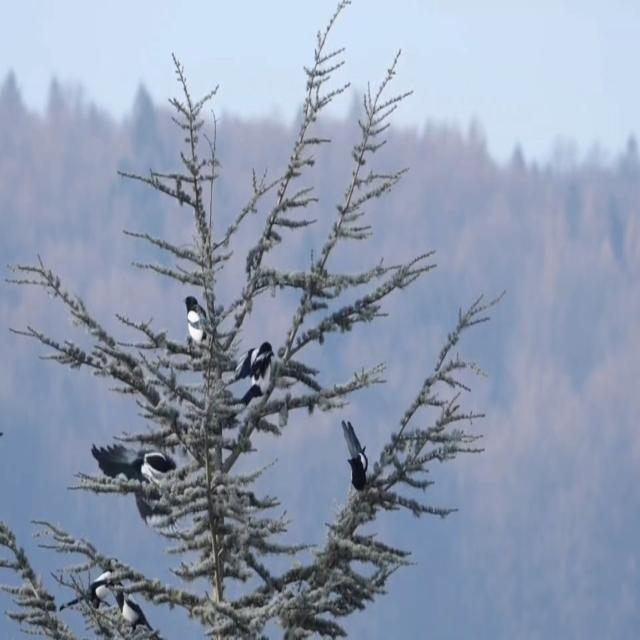bird: (90, 418, 176, 538), (336, 414, 383, 524), (67, 548, 120, 638), (170, 268, 214, 374), (237, 326, 281, 431), (98, 580, 158, 631), (138, 446, 182, 496)
